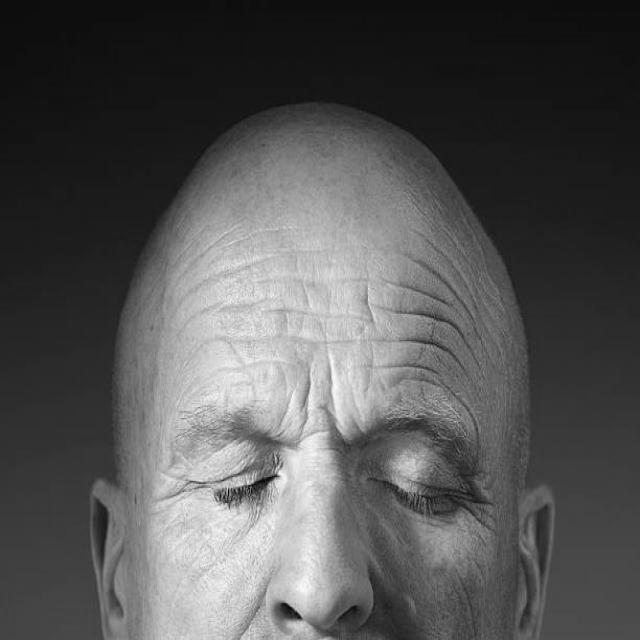real: (86, 96, 557, 640), (166, 366, 510, 536)
